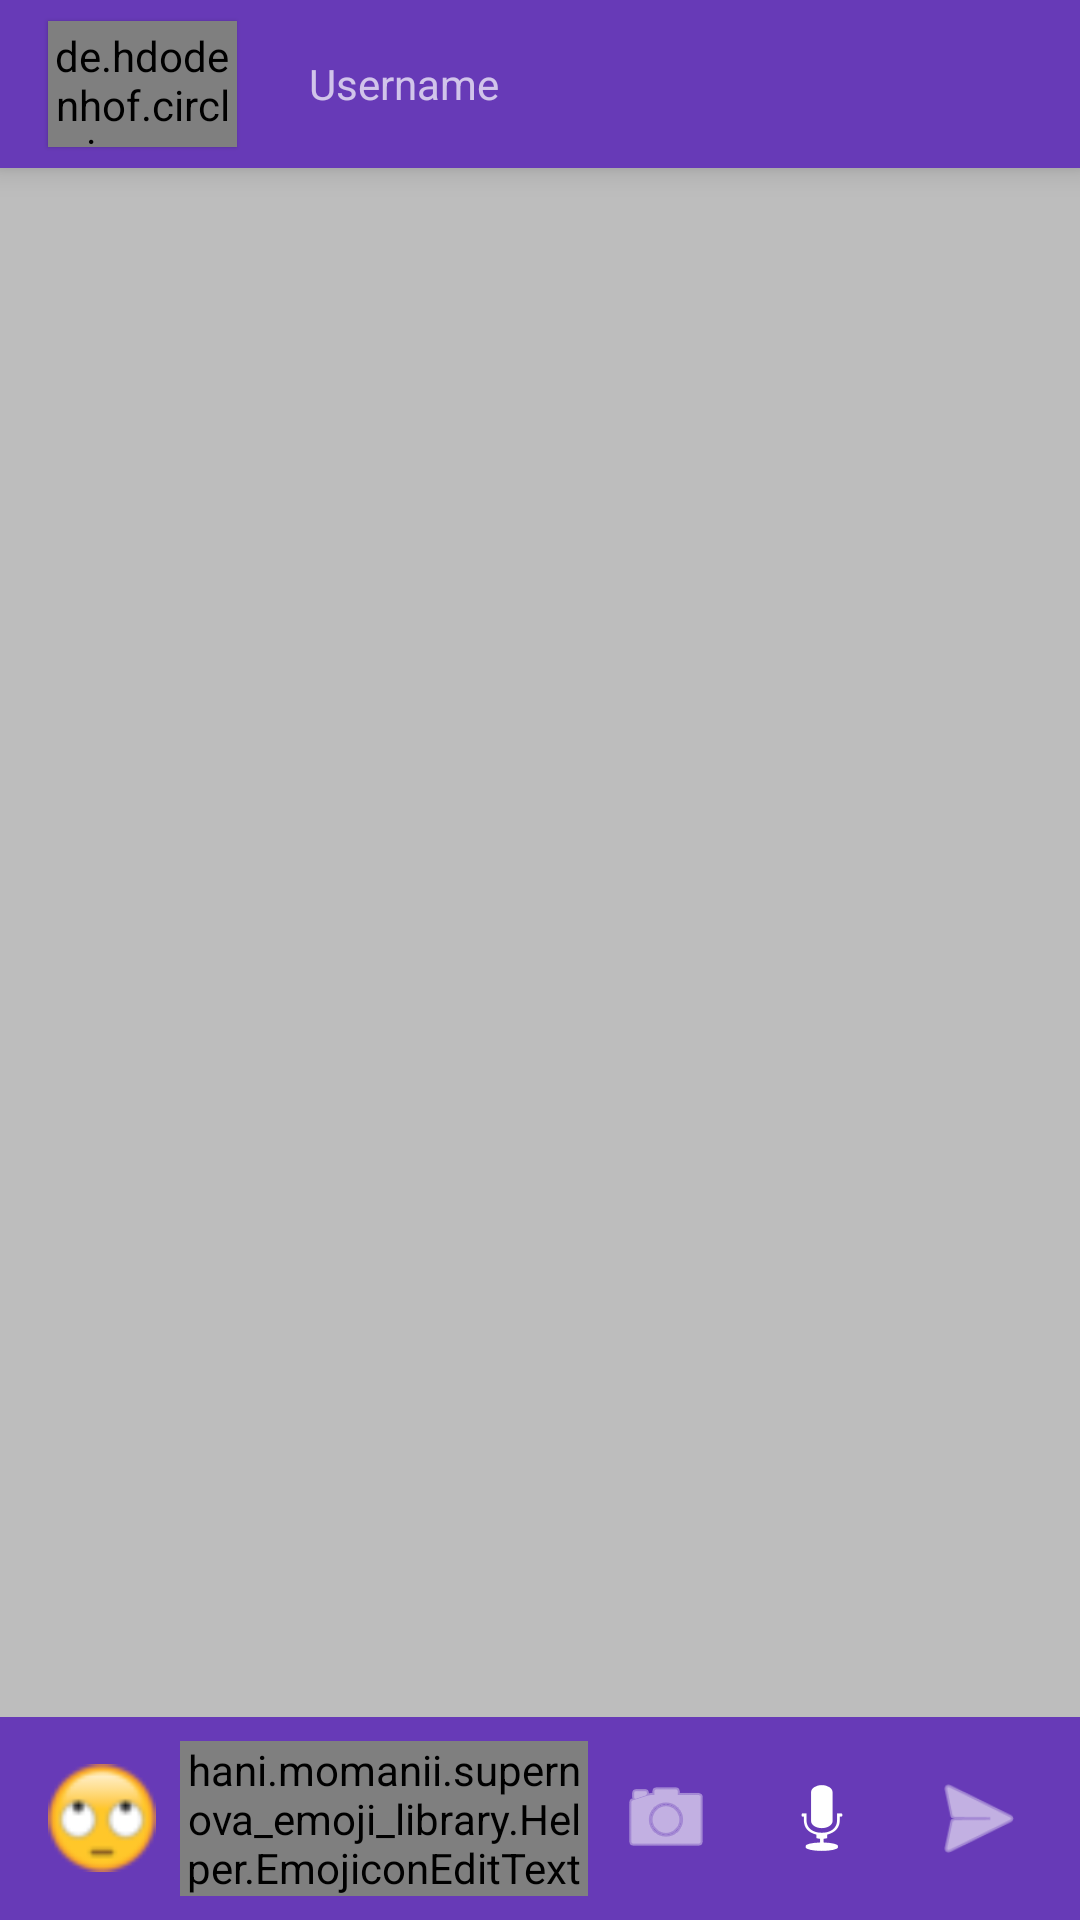

Point at icon controls on the screen. Image size 1080 x 1920, points as [x,y].
camera: [666,1816]
send: [978,1818]
speak now: [822,1818]
